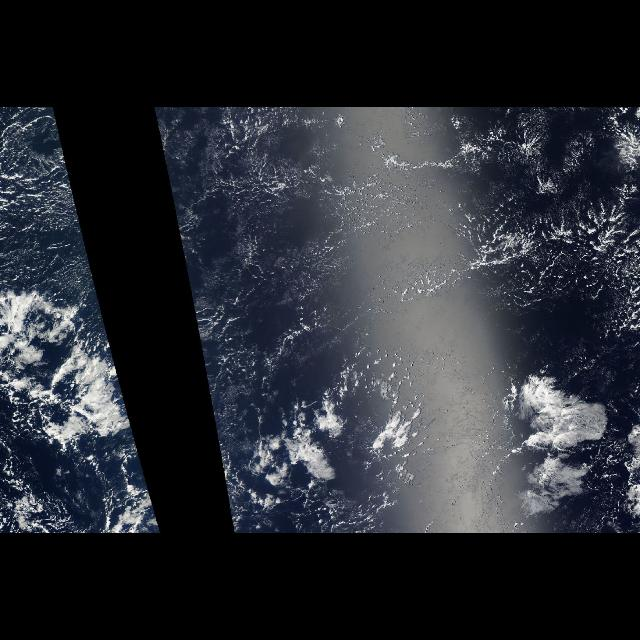Flower: (447, 354, 629, 518)
Gravel: (446, 172, 640, 342)
Sugar: (156, 116, 636, 368), (4, 121, 94, 283)
